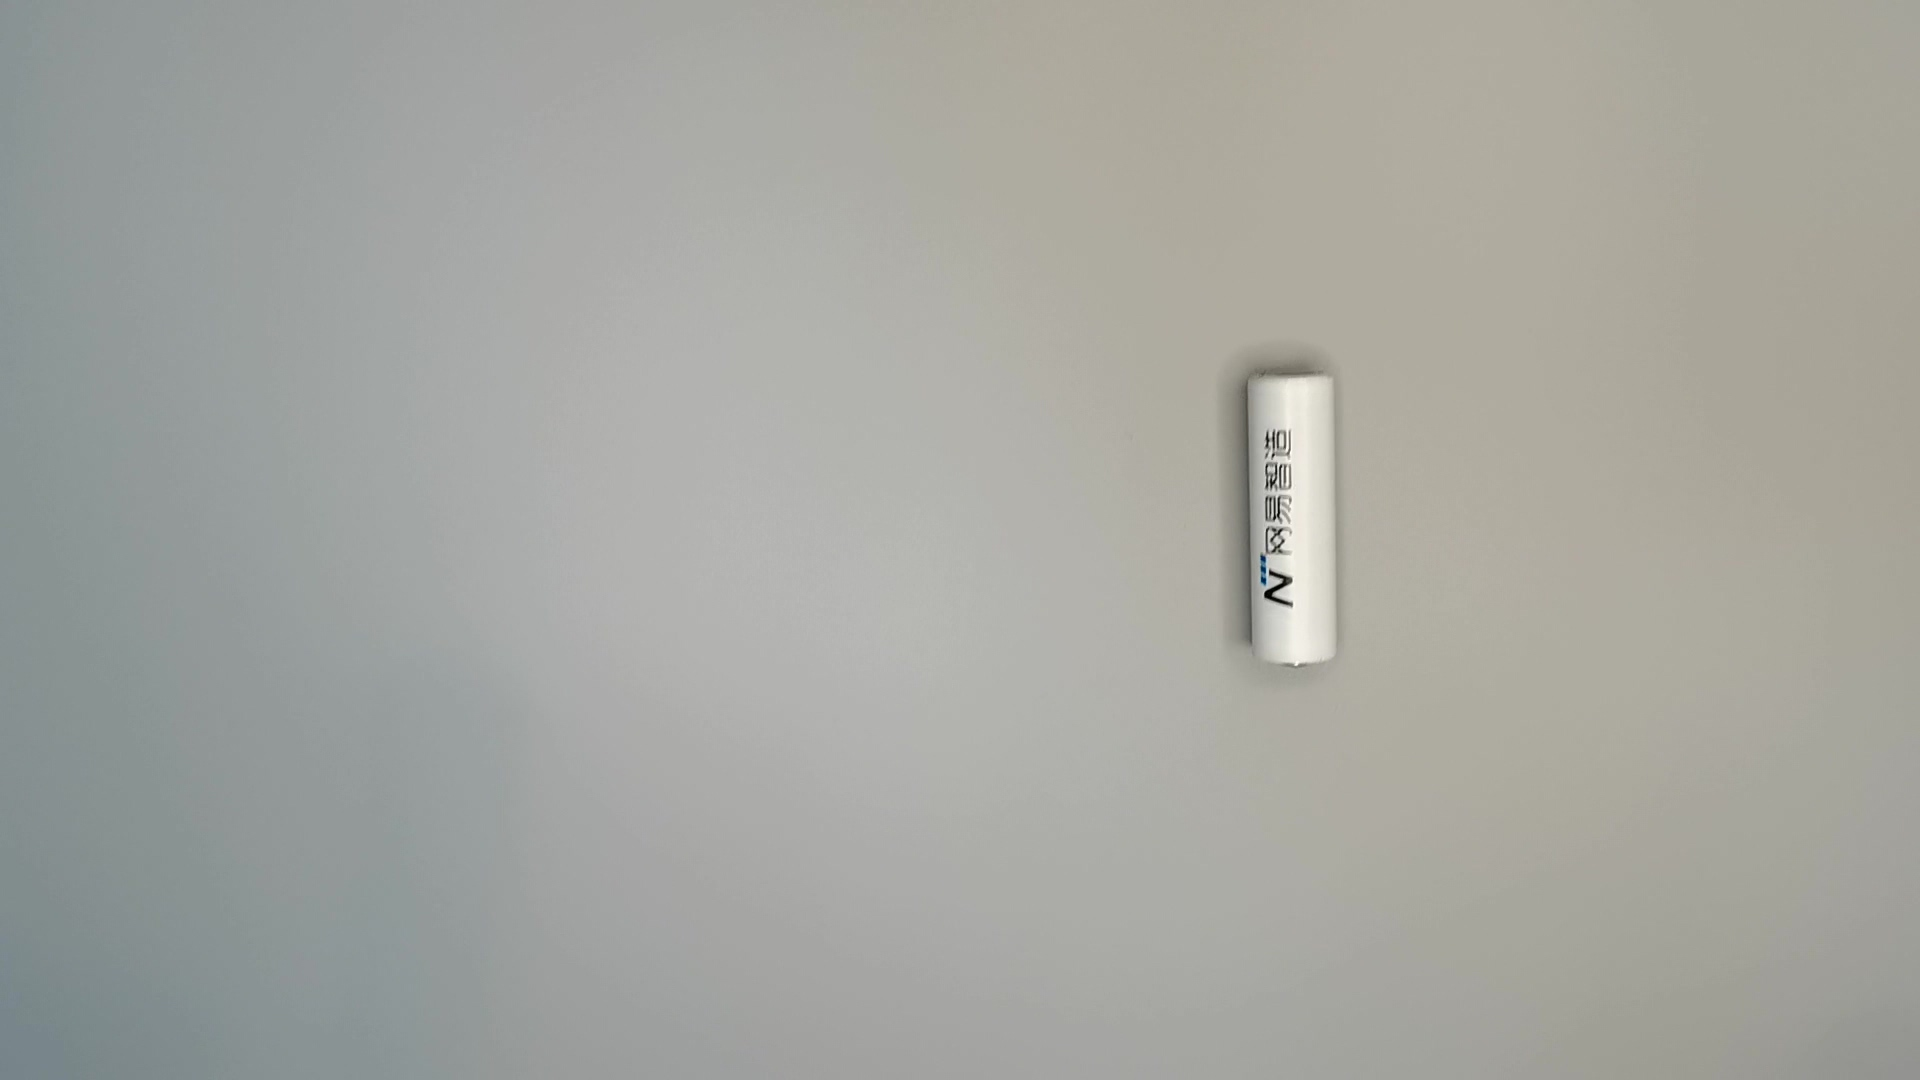battery: (1230, 357, 1356, 683)
